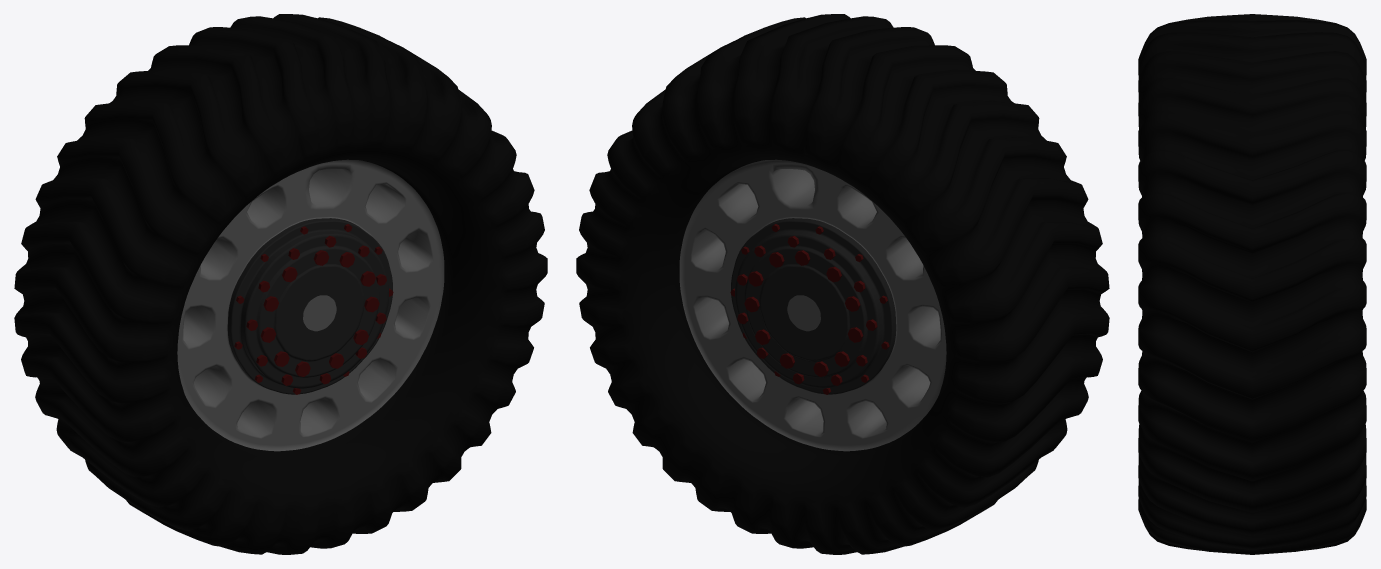
Rendered from TireMotoWheel.fbx.
The picture shows the model from 3 angles, left to right: view 1: azimuth 30°, elevation 25°; view 2: azimuth 150°, elevation 25°; view 3: azimuth 270°, elevation 25°; orthographic projection.
Visible parts, largest first — view 1: WheeelTire; view 2: WheeelTire; view 3: WheeelTire.
Part boxes in pixels (x1=…): WheeelTire: x1=14, y1=14, x2=547, y2=554; WheeelTire: x1=576, y1=14, x2=1109, y2=554; WheeelTire: x1=1138, y1=14, x2=1366, y2=554.
Bounding box in the file's own units: 246 × 245 × 104.
